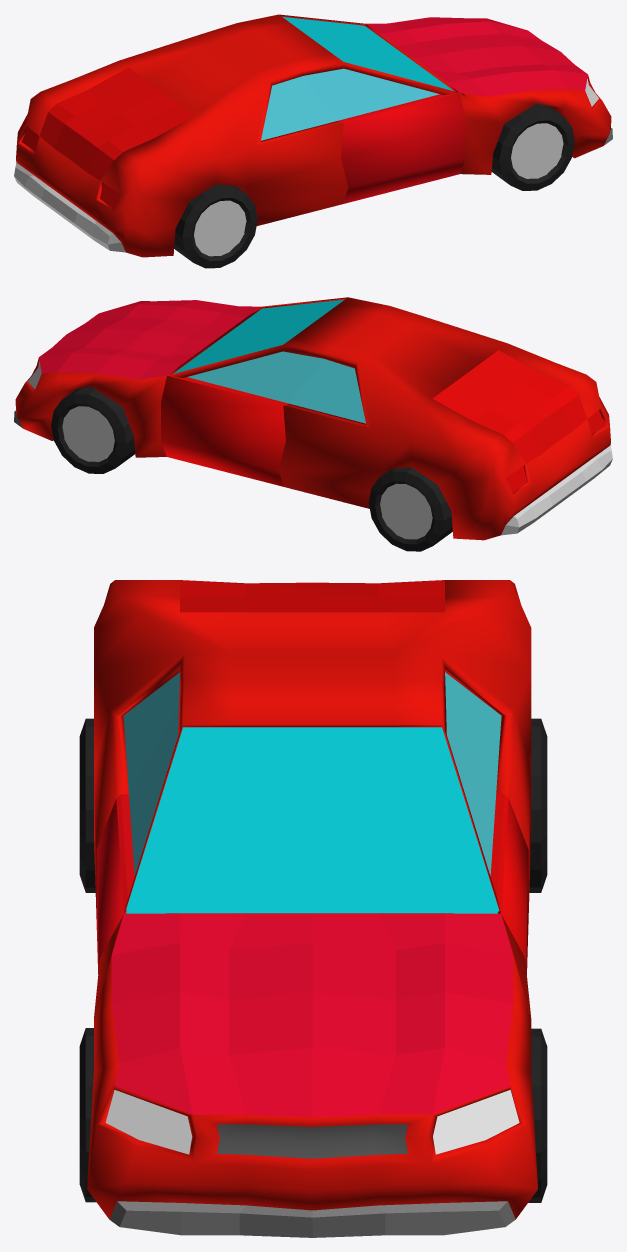
Rendered from car.fbx.
The picture shows the model from 3 angles, top to bottom: view 1: azimuth 30°, elevation 25°; view 2: azimuth 150°, elevation 25°; view 3: azimuth 270°, elevation 25°; orthographic projection. The views are drawn at different scales.
Visible parts, largest first — view 1: Merged; view 2: Merged; view 3: Merged.
Boxes of the visible parts, left/top/right/bottom form: Merged: left=14, top=14, right=612, bottom=268; Merged: left=14, top=297, right=612, bottom=551; Merged: left=79, top=580, right=547, bottom=1237.
Size of the model in its own units: 0.9024 by 0.656 by 2.3.
